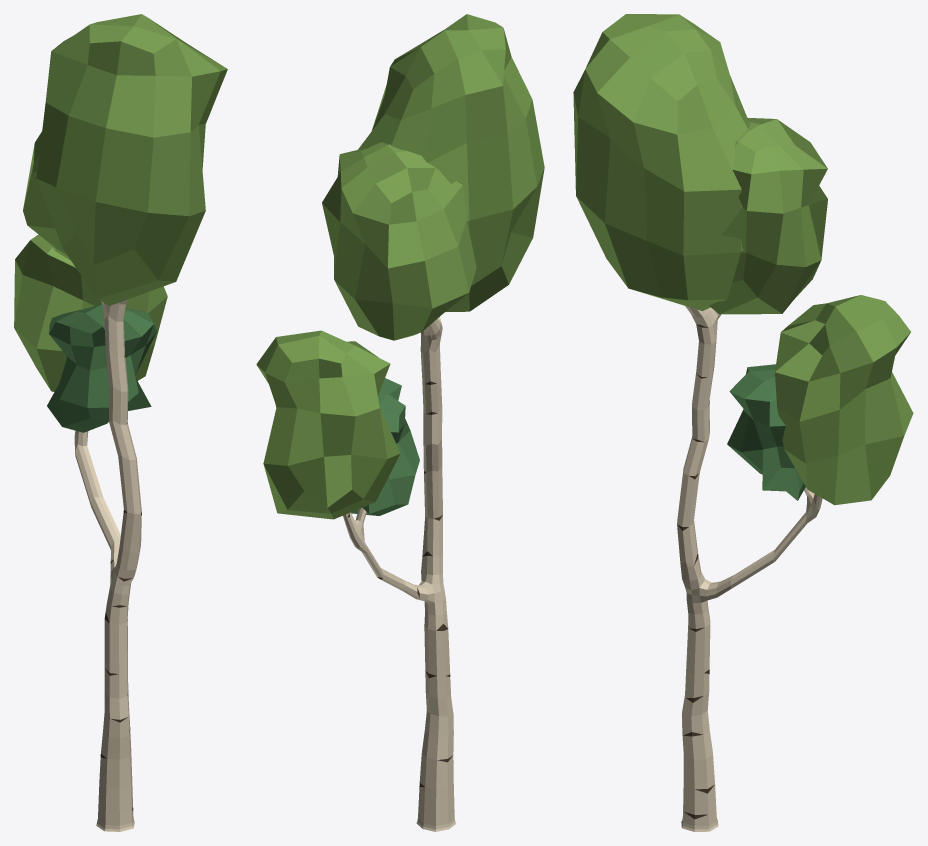
The model's file is bouleau_2.glb.
3 renders of one model, left to right at view 1: azimuth 30°, elevation 25°; view 2: azimuth 150°, elevation 25°; view 3: azimuth 270°, elevation 25°, orthographic. The views are drawn at different scales.
Parts seen in each view (by area): view 1: bouleau_2; view 2: bouleau_2; view 3: bouleau_2.
Part boxes in pixels (x1,y1,x2,y2): bouleau_2: (14, 14, 227, 831); bouleau_2: (256, 14, 544, 831); bouleau_2: (573, 14, 913, 831).
Size of the model in its own units: 2.61 by 11 by 4.25.
